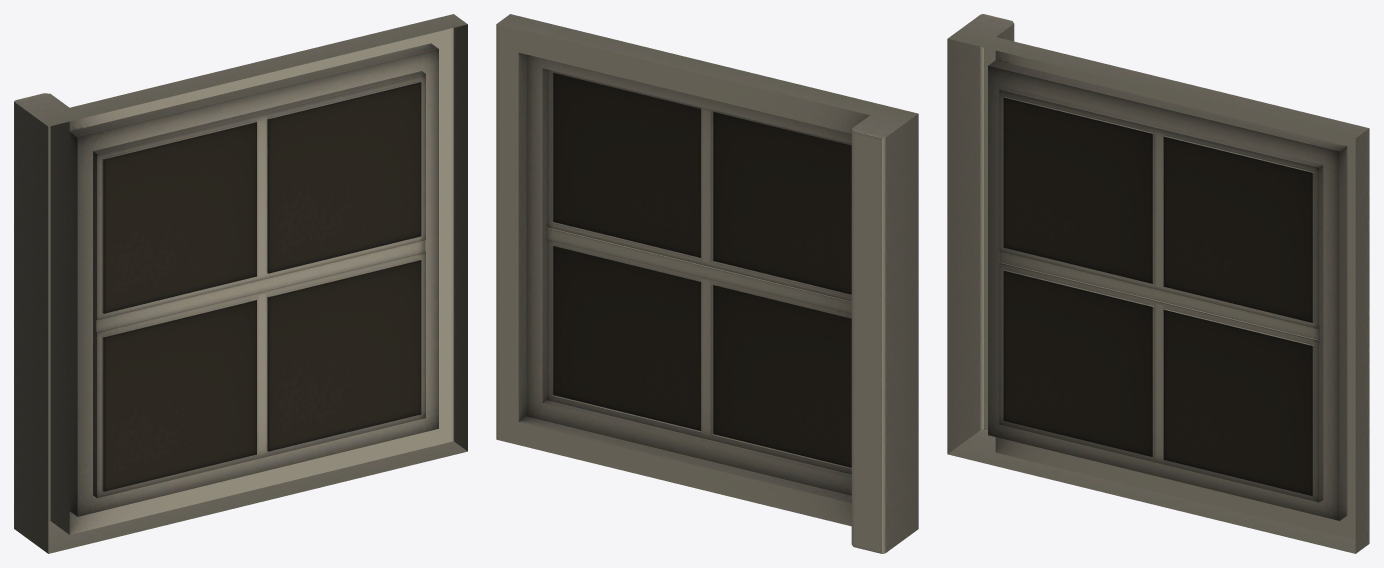
The model's file is props_coalmines_window2.glb.
3 renders of one model, left to right at view 1: azimuth 30°, elevation 25°; view 2: azimuth 150°, elevation 25°; view 3: azimuth 330°, elevation 25°, orthographic. The views are drawn at different scales.
Parts seen in each view (by area): view 1: models/props_coalmines/window2; view 2: models/props_coalmines/window2; view 3: models/props_coalmines/window2.
Boxes of the visible parts, x1,y1,x2,y2 form: models/props_coalmines/window2: (14, 14, 467, 553); models/props_coalmines/window2: (496, 14, 918, 553); models/props_coalmines/window2: (947, 14, 1369, 553).
Bounding box in the file's own units: 55.5 × 54 × 8.13.
Materials: 1 (1 with a texture image).
